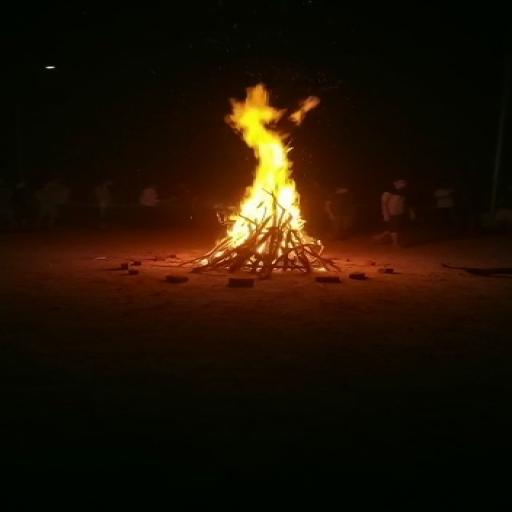fire: (201, 77, 336, 248)
